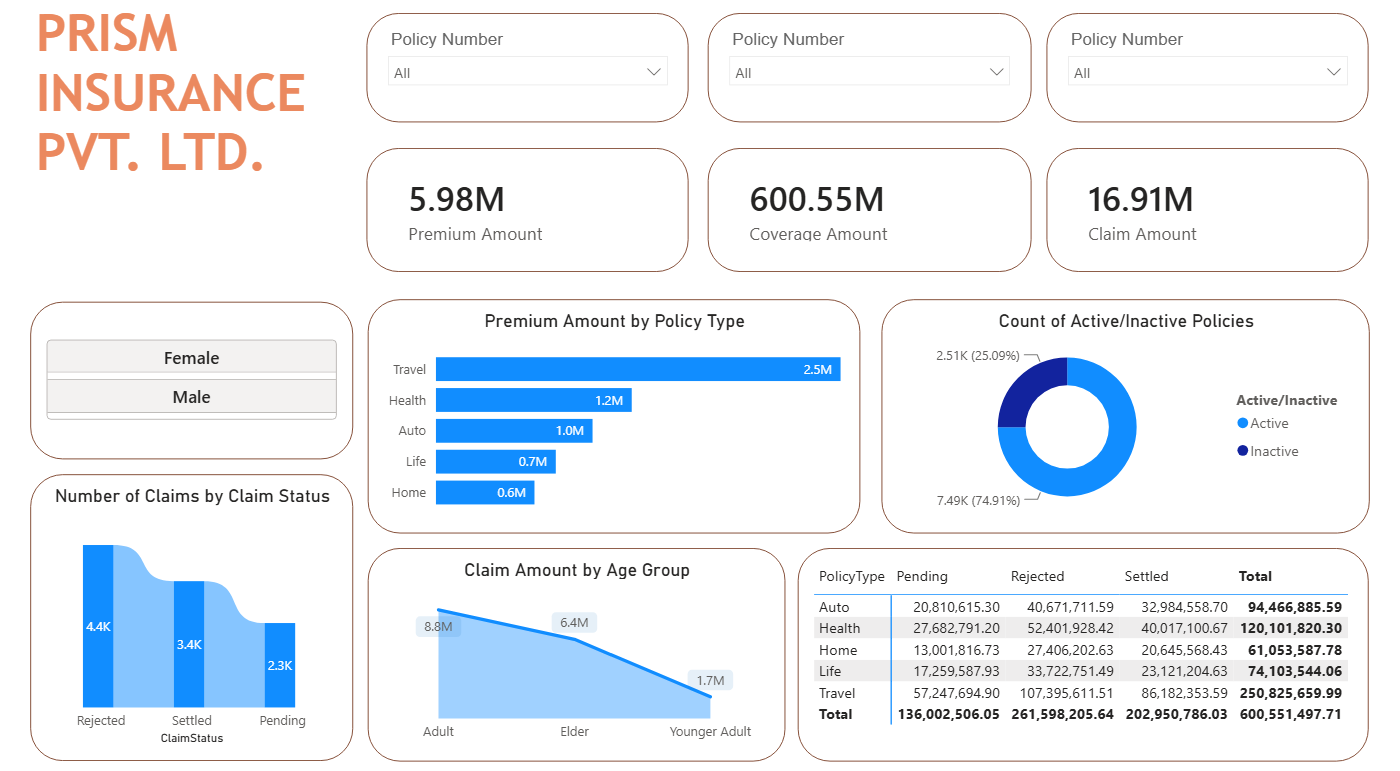

What the dashboard file says about the page in this screenshot:
{"tool":"powerbi","page":{"name":"Insurance Data Analysis","canvas":[1280,720],"ordinal":0},"visuals":[{"type":"textbox","box":[10,0,280,280],"z":0},{"type":"slicer","fields":{"Values":["InsuranceData.PolicyNumber"]},"box":[322.8,13.5,299.6,101.5],"z":1000},{"type":"slicer","fields":{"Values":["InsuranceData.CustomerID"]},"box":[639.5,13.5,300.8,101.5],"z":2000},{"type":"slicer","fields":{"Values":["InsuranceData.ClaimNumber"]},"box":[955,13.5,299.6,101.5],"z":3000},{"type":"cardVisual","fields":{"Data":["Sum(InsuranceData.PremiumAmount)"]},"box":[322.8,139.4,299.6,114.9],"z":4000},{"type":"cardVisual","fields":{"Data":["Sum(InsuranceData.CoverageAmount)"]},"box":[639.5,139.4,300.8,114.9],"z":5000},{"type":"cardVisual","fields":{"Data":["Sum(InsuranceData.ClaimAmount)"]},"box":[955,139.4,299.6,114.9],"z":6000},{"type":"cardVisual","fields":{"Rows":["InsuranceData.Gender"]},"box":[10,282.5,300,146.2],"z":7000},{"type":"ribbonChart","title":"Number of Claims by Claim Status","fields":{"Category":["InsuranceData.ClaimStatus"],"Y":["CountNonNull(InsuranceData.ClaimStatus)"]},"box":[10,442.5,300,266.2],"z":8000},{"type":"lineChart","title":"Claim Amount by Age Group","fields":{"Category":["InsuranceData.Age group"],"Y":["Sum(InsuranceData.ClaimAmount)"]},"box":[324.1,511.1,387.6,198.1],"z":9000},{"type":"donutChart","title":"Count of Active/Inactive Policies","fields":{"Category":["InsuranceData.Active/Inactive"],"Y":["CountNonNull(InsuranceData.Active/Inactive)"]},"box":[801,280,453.7,217.7],"z":10000},{"type":"barChart","title":"Premium Amount by Policy Type","fields":{"Category":["InsuranceData.PolicyType"],"Y":["Sum(InsuranceData.PremiumAmount)"]},"box":[324.1,280,457.3,217.7],"z":11000},{"type":"pivotTable","title":"Claim Amount by Age Group","fields":{"Values":["Sum(InsuranceData.CoverageAmount)"],"Rows":["InsuranceData.PolicyType"],"Columns":["InsuranceData.ClaimStatus"]},"box":[723.9,511.1,530.7,198.1],"z":12000}]}

Visuals, with their boxes in screenshot pixels (x1, y1, x2, y2), scaled from the page's 1280x720 canvas onto the 1400x771 screenshot:
textbox: crop(11, 0, 317, 300)
slicer - InsuranceData.PolicyNumber: crop(353, 14, 681, 123)
slicer - InsuranceData.CustomerID: crop(699, 14, 1028, 123)
slicer - InsuranceData.ClaimNumber: crop(1045, 14, 1372, 123)
cardVisual - Sum(InsuranceData.PremiumAmount): crop(353, 149, 681, 272)
cardVisual - Sum(InsuranceData.CoverageAmount): crop(699, 149, 1028, 272)
cardVisual - Sum(InsuranceData.ClaimAmount): crop(1045, 149, 1372, 272)
cardVisual - InsuranceData.Gender: crop(11, 303, 339, 459)
"Number of Claims by Claim Status" ribbonChart: crop(11, 474, 339, 759)
"Claim Amount by Age Group" lineChart: crop(354, 547, 778, 759)
"Count of Active/Inactive Policies" donutChart: crop(876, 300, 1372, 533)
"Premium Amount by Policy Type" barChart: crop(354, 300, 855, 533)
"Claim Amount by Age Group" pivotTable: crop(792, 547, 1372, 759)
